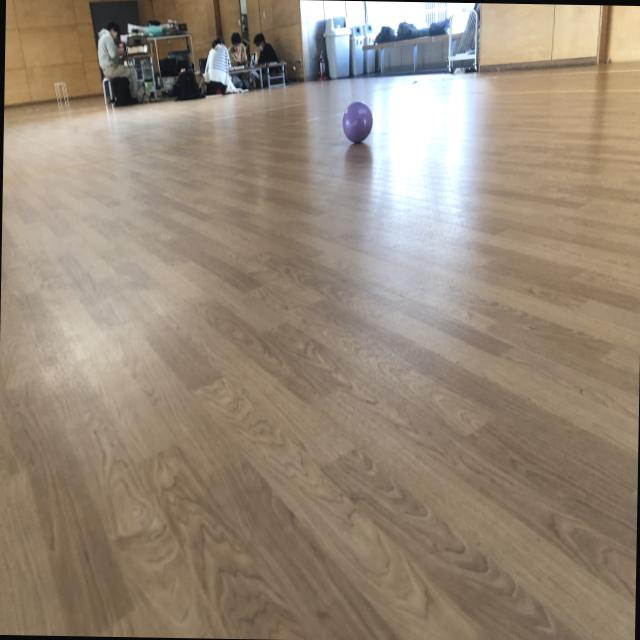purple_ball: (342, 100, 373, 142)
